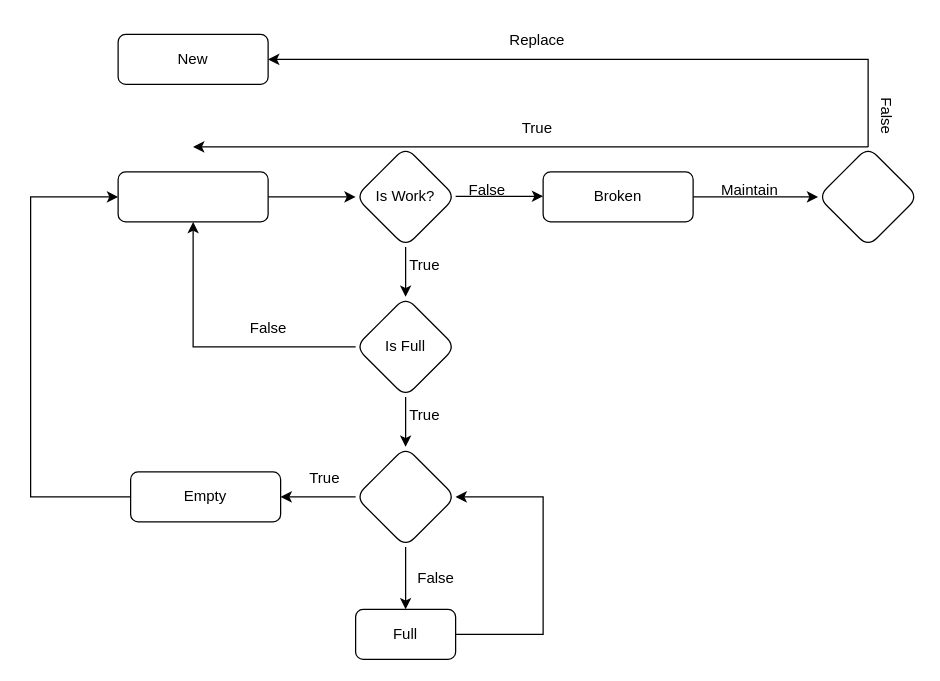
This 940x681 diagram has some shape labels left out. Here are the shapes that lost their labels. From the top down, the centre of each, then its label:
(192,196): In Use
(867,196): Can Repair?
(405,496): Is Collected
